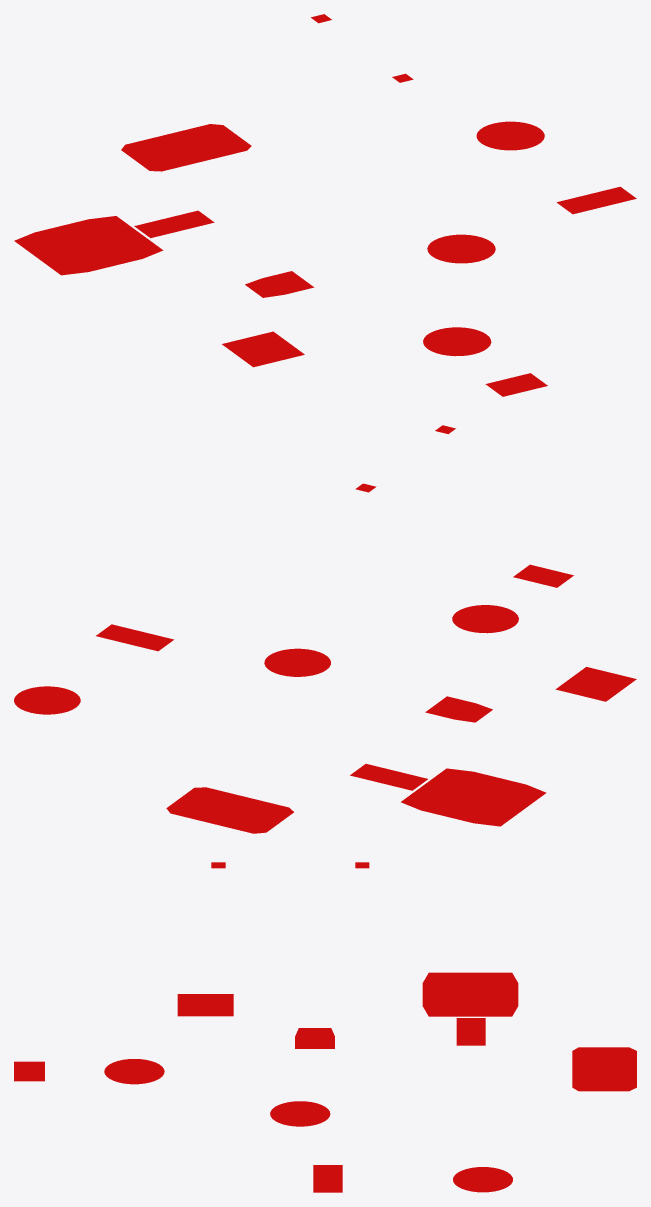
File: SM_instruktion.FBX
3 views of the same model, one above another, from view 1: azimuth 30°, elevation 25°; view 2: azimuth 150°, elevation 25°; view 3: azimuth 270°, elevation 25° (orthographic). The views are drawn at different scales.
Parts seen in each view (by area): view 1: SM_instruktion_LOD0; view 2: SM_instruktion_LOD0; view 3: SM_instruktion_LOD0.
Boxes of the visible parts, left/top/right/bottom form: SM_instruktion_LOD0: left=14, top=14, right=636, bottom=396; SM_instruktion_LOD0: left=14, top=425, right=636, bottom=833; SM_instruktion_LOD0: left=14, top=862, right=636, bottom=1192.
Size of what is drawn, in the model's own units: 1082 by 466 by 1296.
